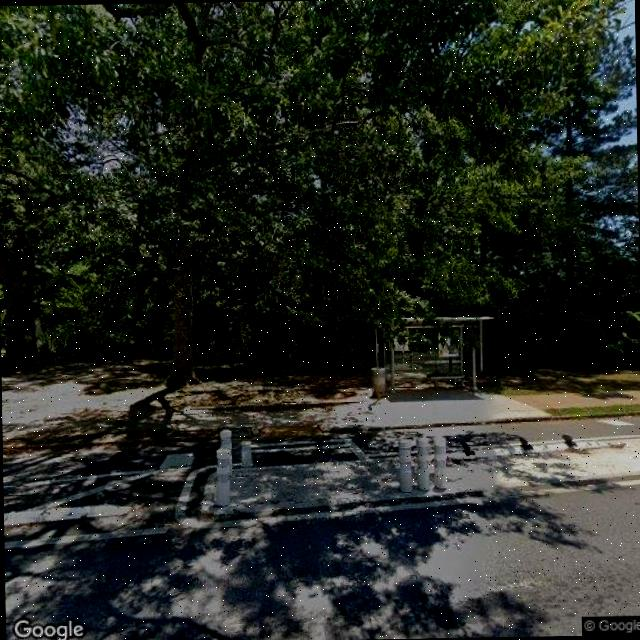seating: (430, 375, 464, 389)
shelter: (373, 314, 496, 396)
trash_can: (371, 366, 387, 396)
